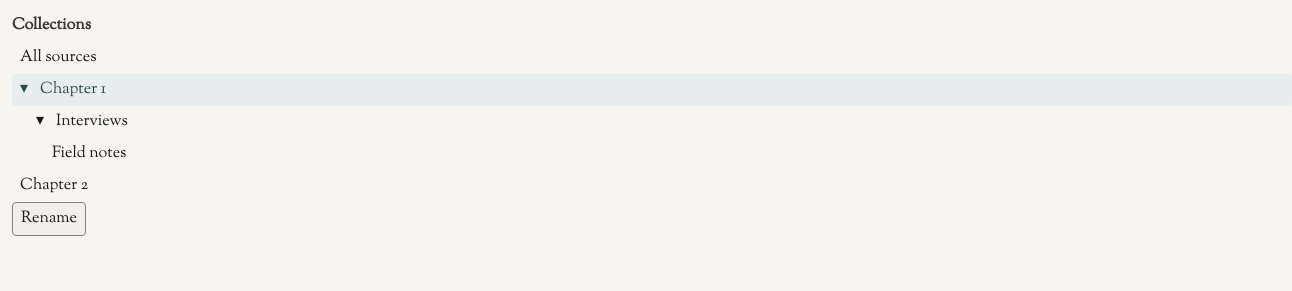
Scenario: CollectionTree expand, collapse, rename, delete › an open rename closes when another collection is selected, so it never renames the wrong one (41b1 M2)
Click the button with aria-label "Rename collection Chapter 1".
click(49, 219)  # box [12, 202, 86, 236]
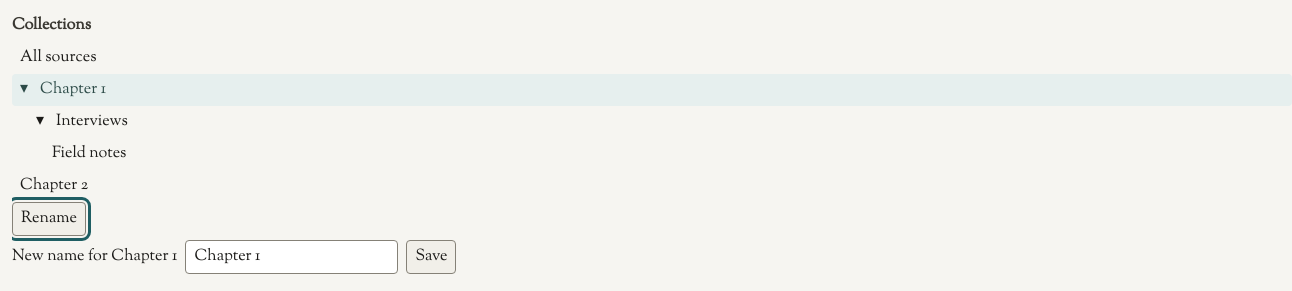
Check: the field labelled "New name for Chapter 1" is shown, box [185, 240, 398, 274]
